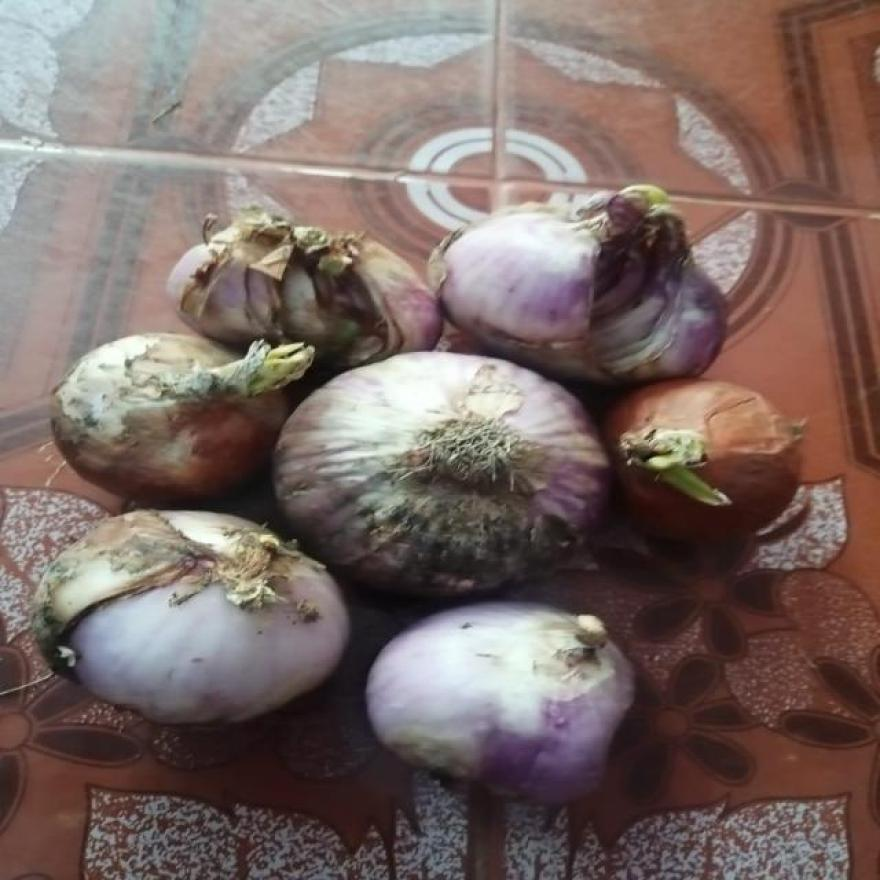Rotten: (352, 486, 573, 578), (47, 530, 220, 642), (269, 234, 392, 344), (595, 238, 682, 366), (575, 692, 641, 772)
Sprouted: (624, 425, 689, 473), (246, 347, 315, 391), (618, 176, 673, 209)
